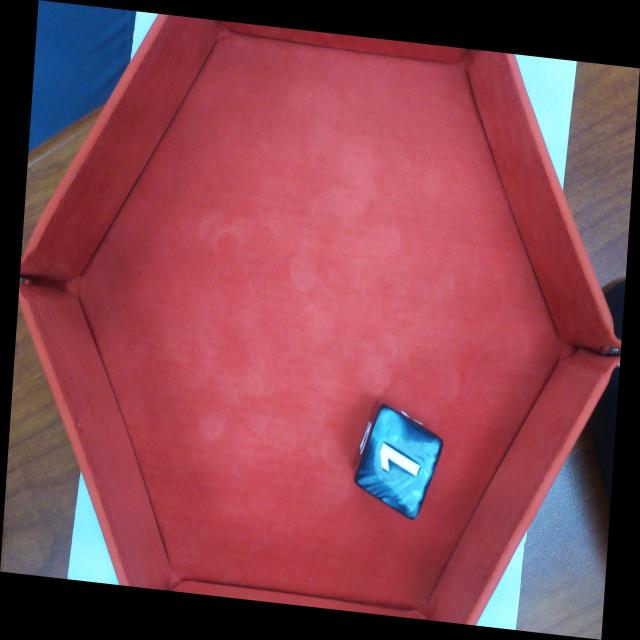dice: (356, 409, 443, 519)
